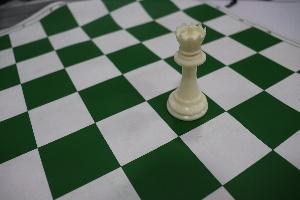white_queen: (166, 17, 213, 128)
